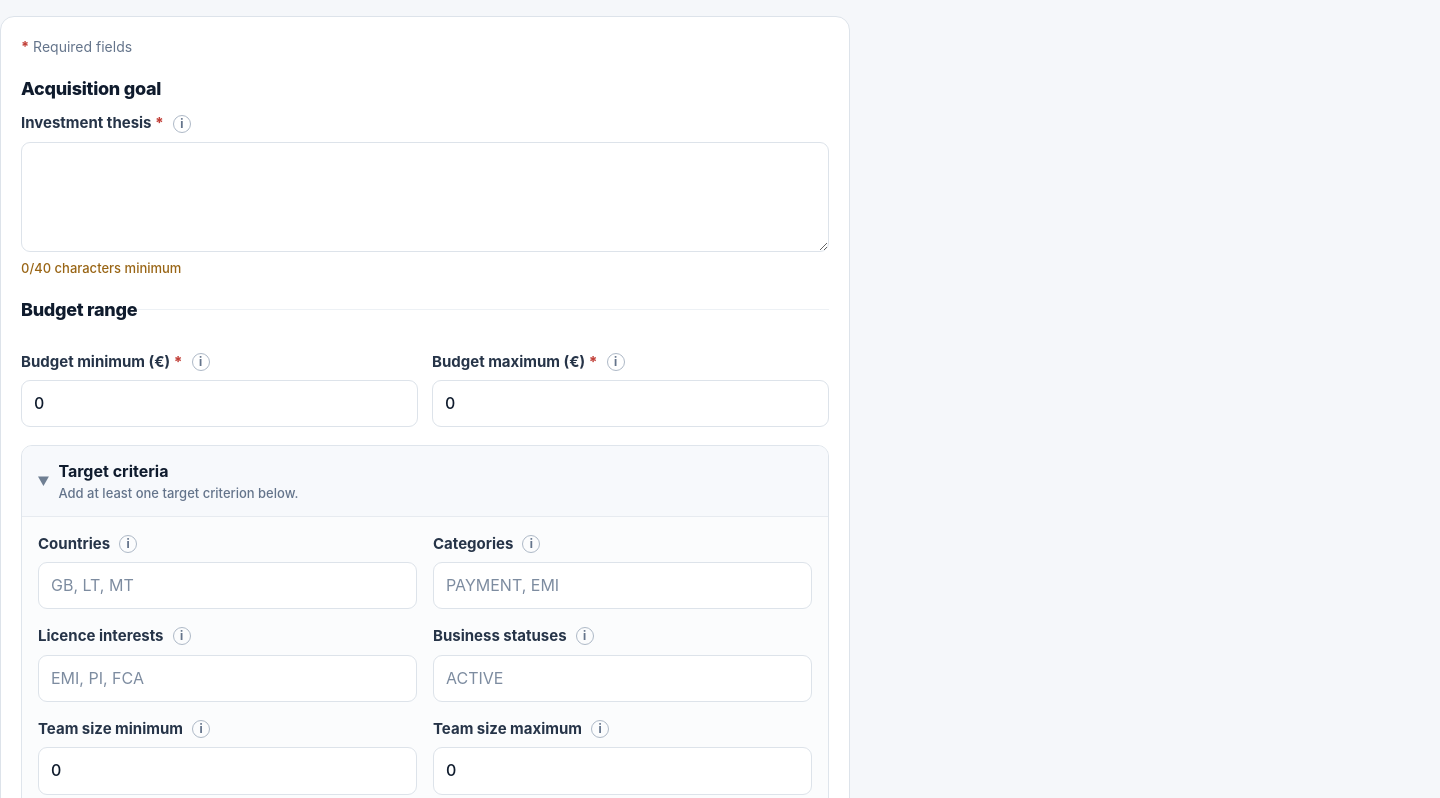
ModerationForm › keeps an empty Buyer mandate unavailable until it has a thesis, budget, and target
Expected: the text "Add at least one target criterion below." is shown, top-left (58, 485), bottom-right (298, 501)
In the text box labelled "Investment thesis": (425, 197) top-left (21, 142), bottom-right (829, 252), type "Acquire a regulated European payment business with a documented licence and operating team."
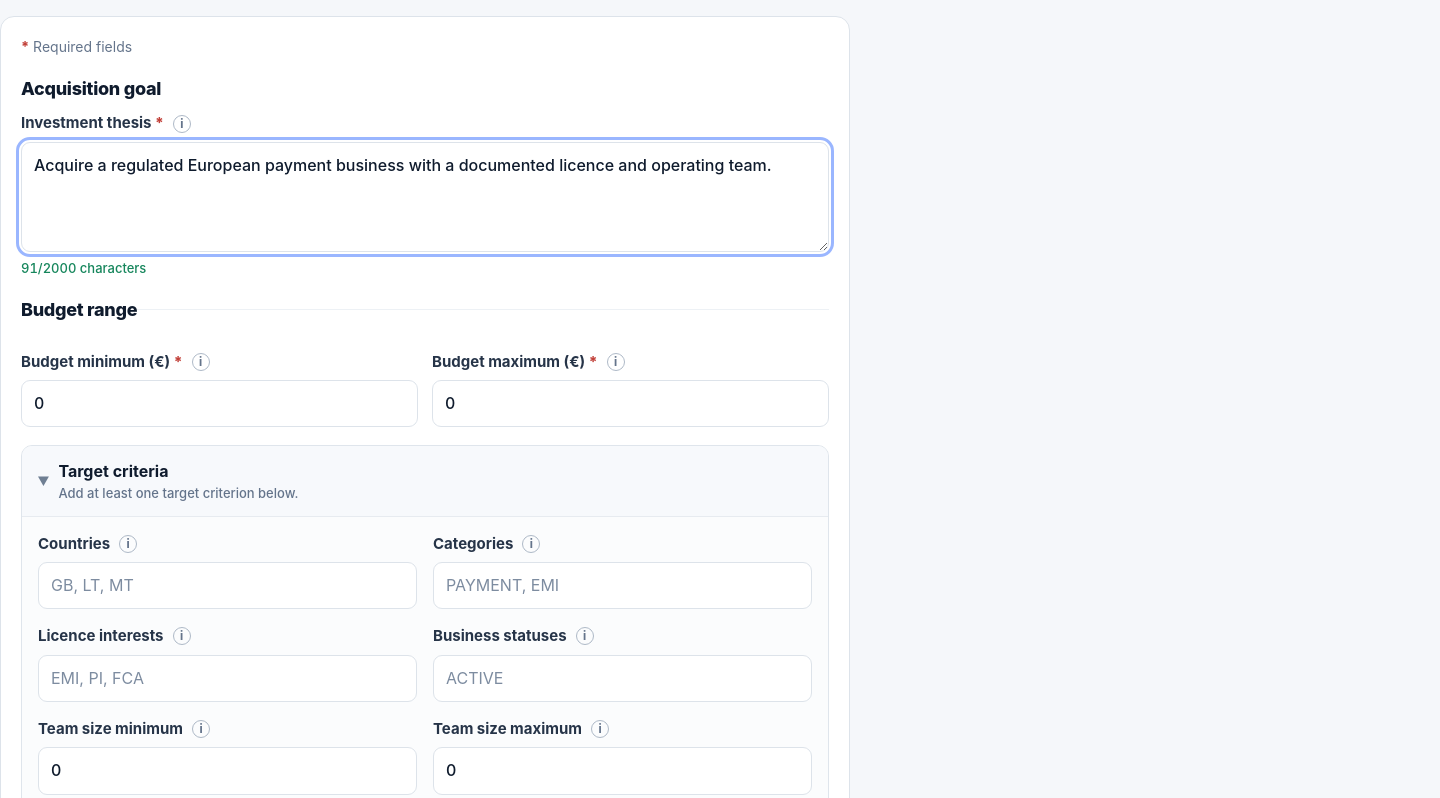
In the field labelled "Categories": (622, 586) top-left (433, 562), bottom-right (812, 609), type "PAYMENT"
(page scrolled)
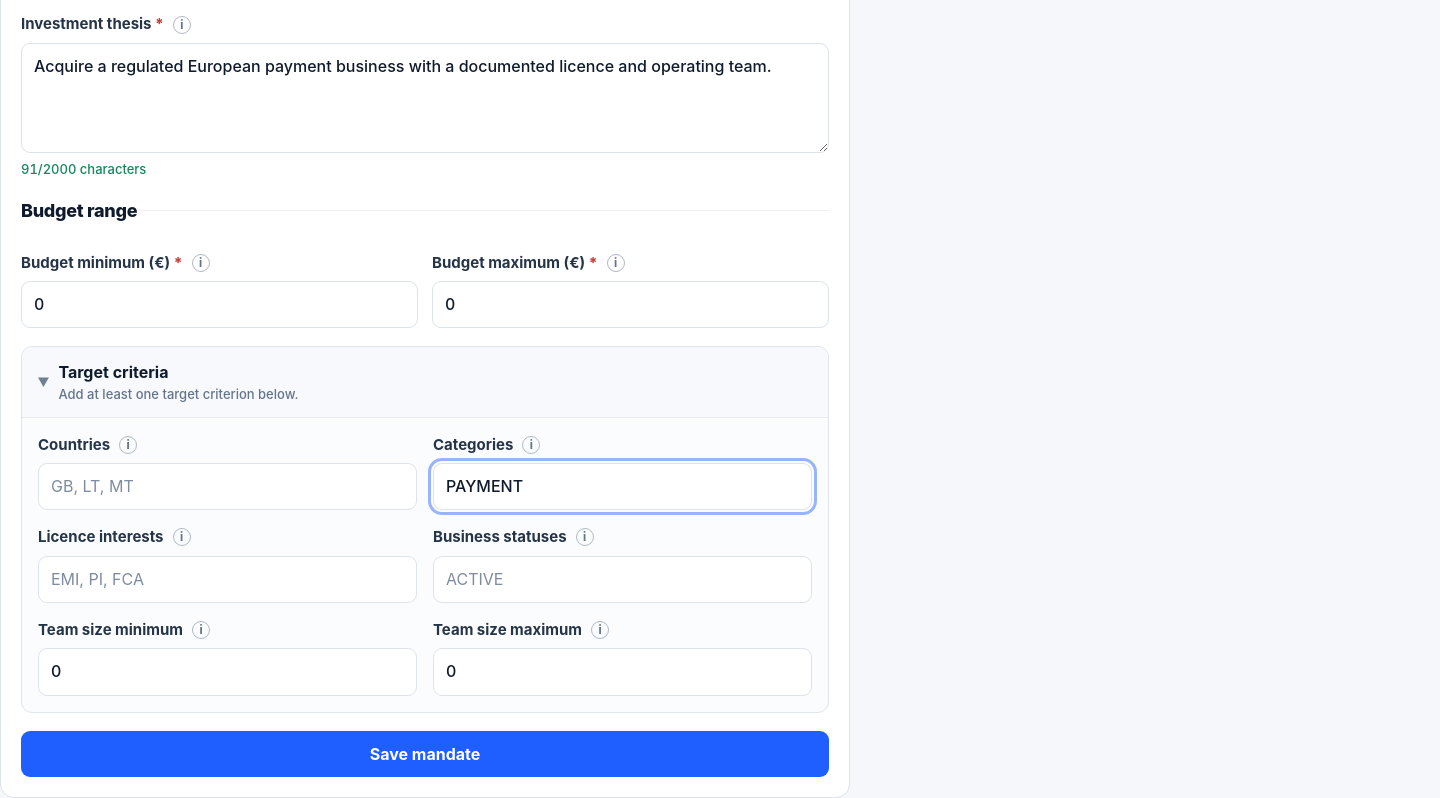
Now the button "Save mandate" is enabled, box top-left (21, 731), bottom-right (829, 777)
